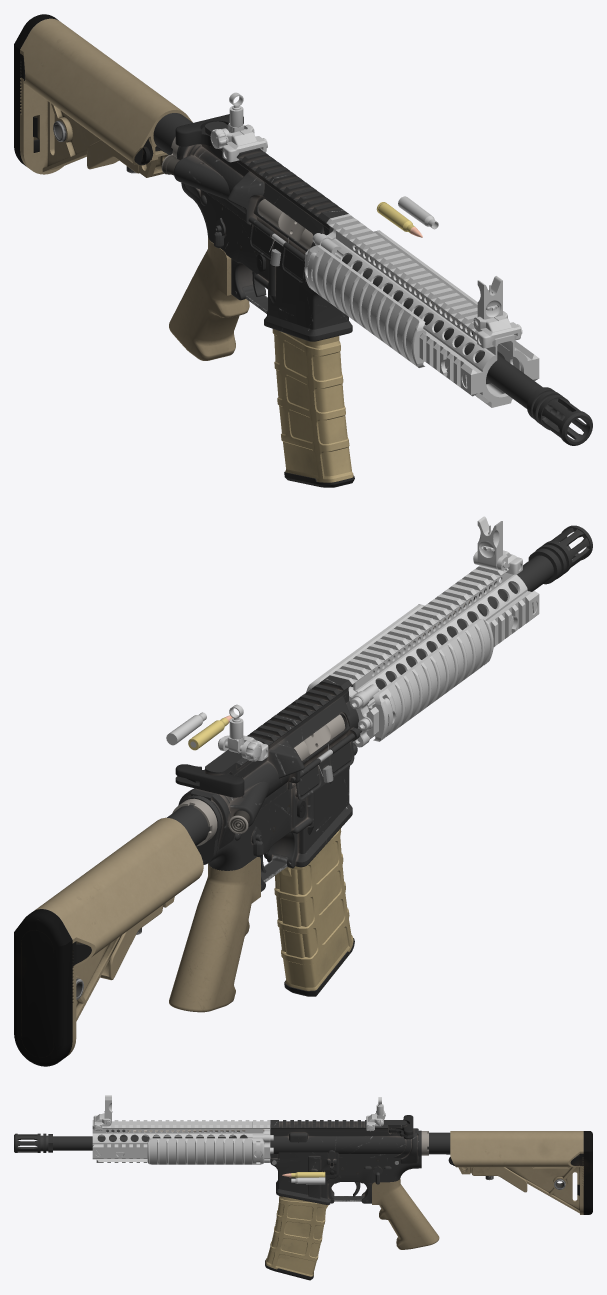
3 renders of one model, top to bottom at view 1: azimuth 30°, elevation 25°; view 2: azimuth 150°, elevation 25°; view 3: azimuth 270°, elevation 25°, orthographic. The views are drawn at different scales.
Visible parts, largest first — view 1: body, stock, handgaurd 1, magazine, rail cover, front iron sight-up, rear iron sight-up, ejection port cover, bolt, charging handle; view 2: body, stock, handgaurd 1, magazine, rail cover, ejection port cover, front iron sight-up, charging handle, rear iron sight-up, handgaurd 2, bolt; view 3: body, stock, handgaurd 1, magazine, rail cover, front iron sight-up, rear iron sight-up, charging handle, handgaurd 2.
Boxes of the visible parts, box(x1,y1,x2,y2) form: body: box(153, 113, 592, 445); stock: box(14, 14, 192, 177); handgaurd 1: box(305, 214, 539, 407); magazine: box(272, 329, 354, 487); rail cover: box(304, 230, 477, 367); front iron sight-up: box(473, 276, 522, 348); rear iron sight-up: box(210, 92, 267, 162); ejection port cover: box(248, 217, 305, 284); bolt: box(258, 199, 313, 249); charging handle: box(175, 114, 243, 146); body: box(167, 525, 592, 1012); stock: box(14, 817, 203, 1066); handgaurd 1: box(330, 565, 539, 738); magazine: box(274, 828, 354, 996); rail cover: box(306, 604, 493, 741); ejection port cover: box(290, 728, 362, 800); front iron sight-up: box(473, 516, 522, 574); charging handle: box(175, 764, 244, 797); rear iron sight-up: box(218, 704, 268, 761); handgaurd 2: box(348, 600, 536, 747); bolt: box(294, 714, 344, 760); body: box(14, 1120, 450, 1249); stock: box(448, 1131, 592, 1214); handgaurd 1: box(92, 1120, 269, 1162); magazine: box(265, 1196, 328, 1280); rail cover: box(147, 1130, 264, 1164); front iron sight-up: box(93, 1095, 112, 1130); rear iron sight-up: box(366, 1097, 385, 1131); charging handle: box(389, 1115, 413, 1139); handgaurd 2: box(94, 1125, 273, 1162).
Size of the model in its own units: 13.46 by 26.2 by 76.52.
